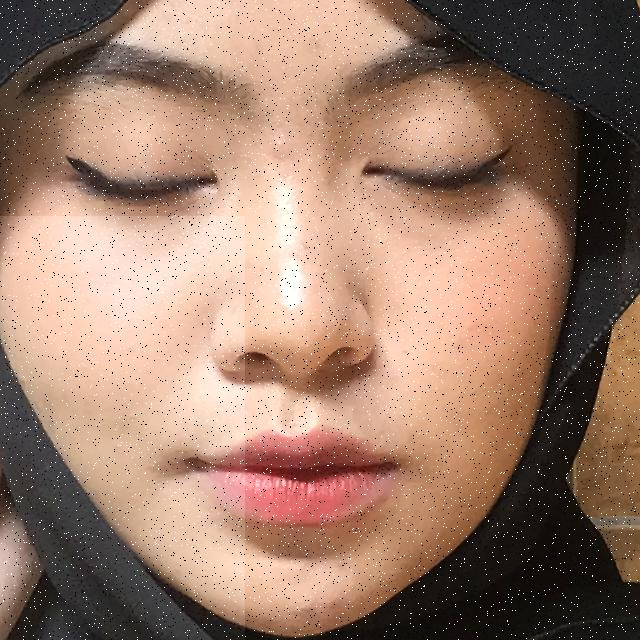ibu: (0, 216, 245, 640)
